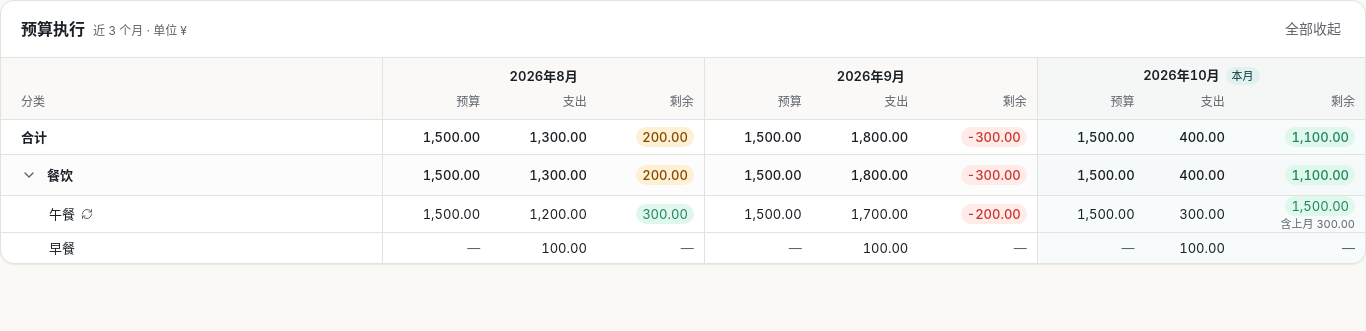
Test: BudgetGrid › does not save on Esc, an unchanged amount or an invalid one
Click the button named "修改「午餐」2026年8月的预算": {"x": 437, "y": 214} x1=389 y1=200 x2=484 y2=228
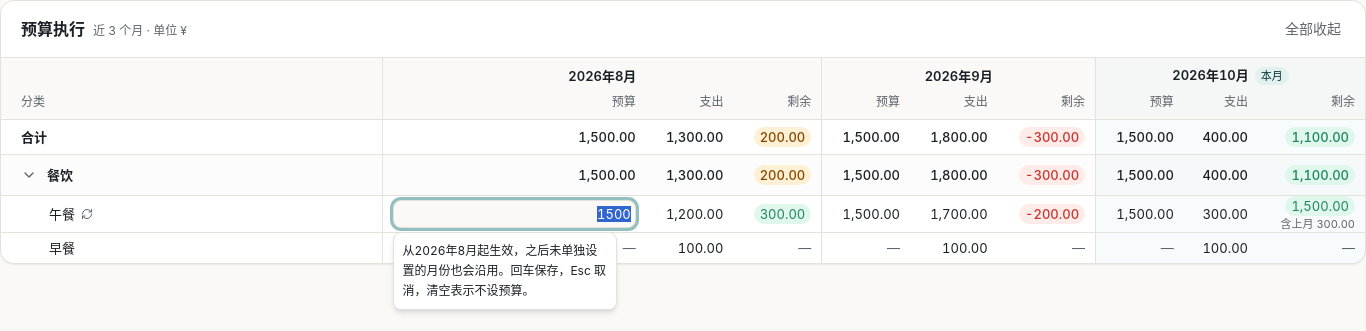
In the field named "修改「午餐」2026年8月的预算": {"x": 515, "y": 214} x1=393 y1=200 x2=636 y2=228, type "9"
Then press Escape
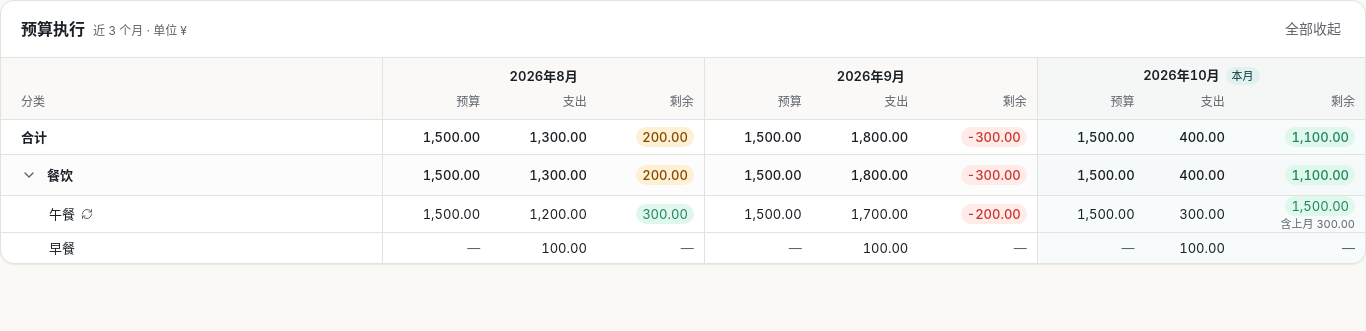
Result: the field is gone
Click the button named "修改「午餐」2026年8月的预算": {"x": 437, "y": 214} x1=389 y1=200 x2=484 y2=228
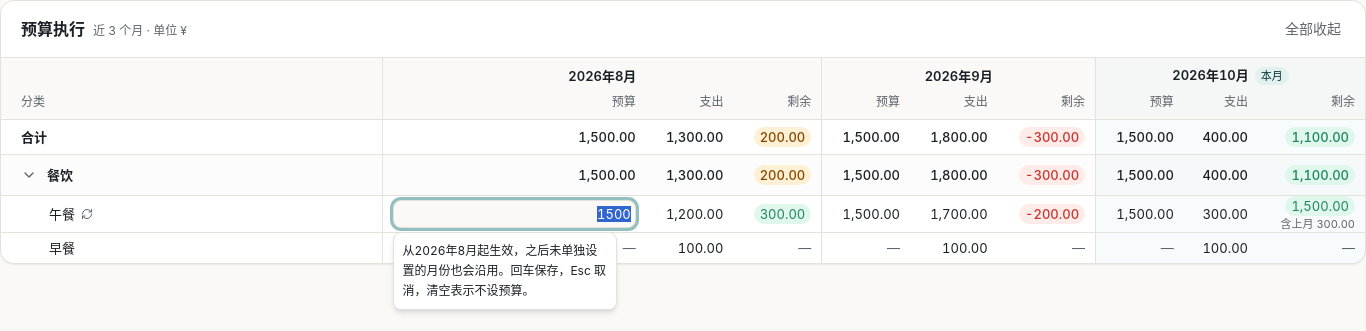
Press Enter
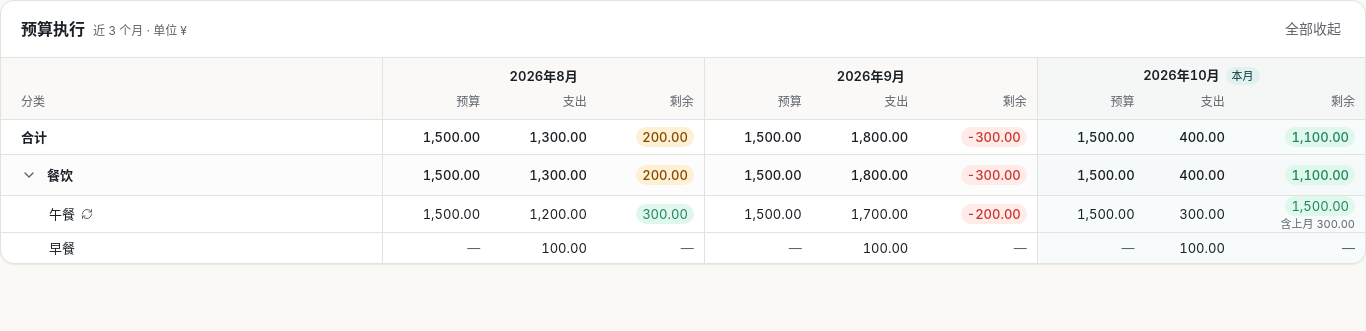
Click the button named "修改「午餐」2026年8月的预算": {"x": 437, "y": 214} x1=389 y1=200 x2=484 y2=228
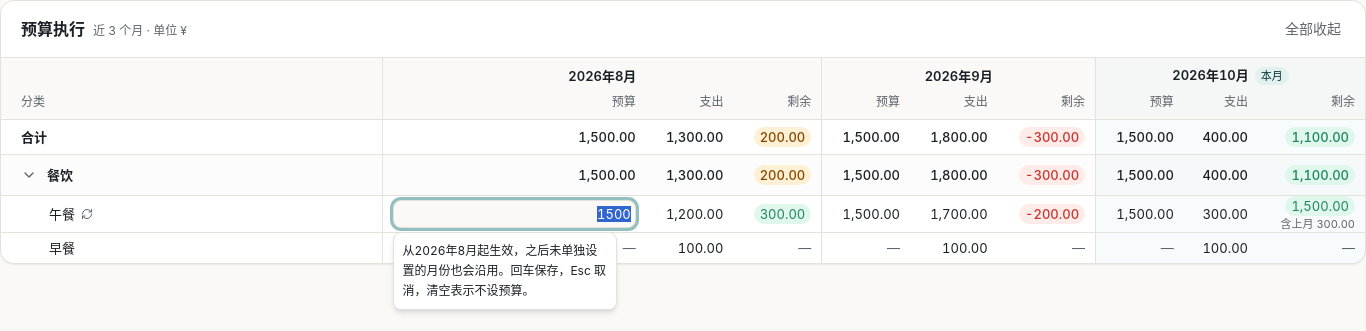
Type keys "1+{Enter}"
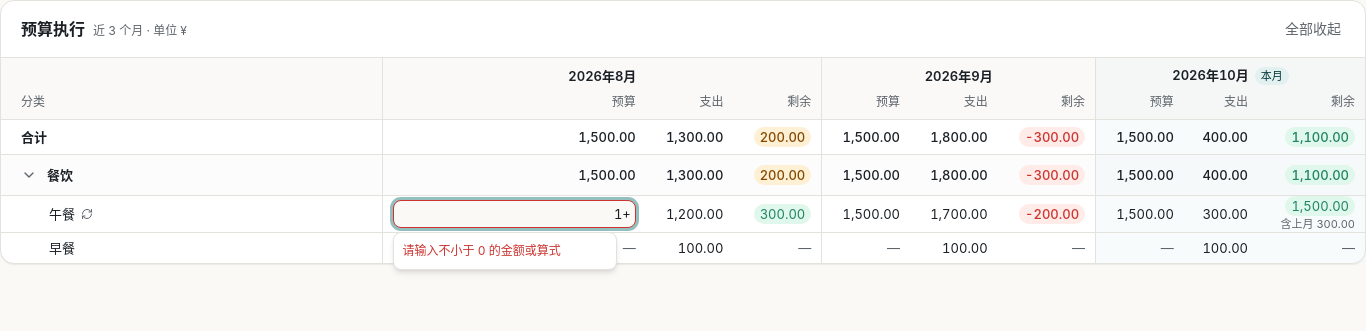
Result: the field is shown at x1=393 y1=200 x2=636 y2=228
Result: the message reads "请输入不小于 0 的金额或算式" at x1=402 y1=243 x2=561 y2=258
